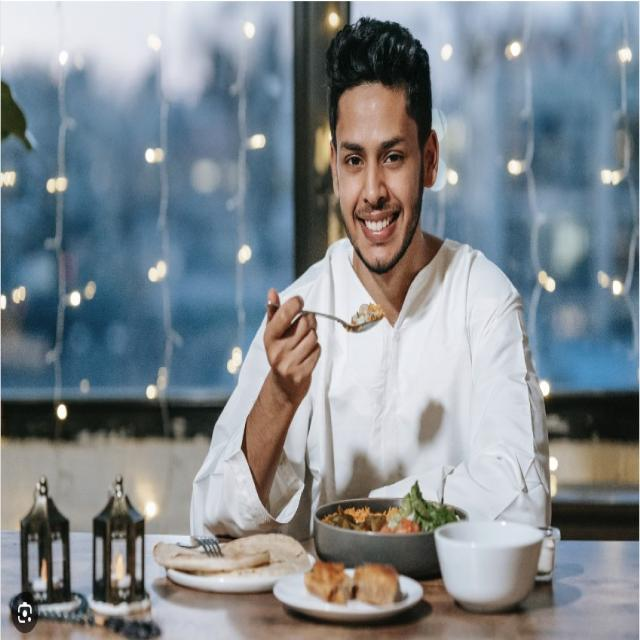eating-person: (160, 13, 560, 640)
